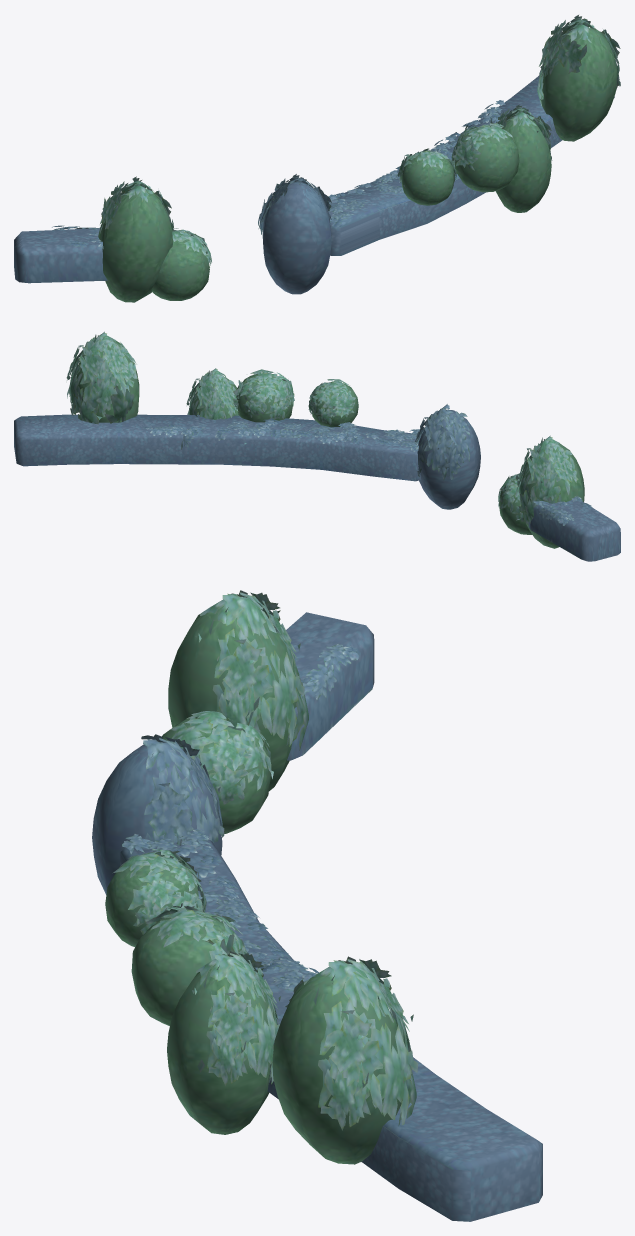
Rendered from pref_sm_beach_bk_winter_pointmol_longplant_L03_lv1.fbx.
3 views of the same model, one above another, from view 1: azimuth 30°, elevation 25°; view 2: azimuth 150°, elevation 25°; view 3: azimuth 270°, elevation 25° (orthographic). The views are drawn at different scales.
Parts seen in each view (by area): view 1: pref_sm_beach_bk_winter_pointmol_longplant_L03_lv1; view 2: pref_sm_beach_bk_winter_pointmol_longplant_L03_lv1; view 3: pref_sm_beach_bk_winter_pointmol_longplant_L03_lv1.
Part boxes in pixels (x1,y1,x2,y2): pref_sm_beach_bk_winter_pointmol_longplant_L03_lv1: (14,15,620,302); pref_sm_beach_bk_winter_pointmol_longplant_L03_lv1: (14,331,620,561); pref_sm_beach_bk_winter_pointmol_longplant_L03_lv1: (92,590,542,1221).
Bounding box in the file's own units: 28.28 × 6.55 × 9.76.
